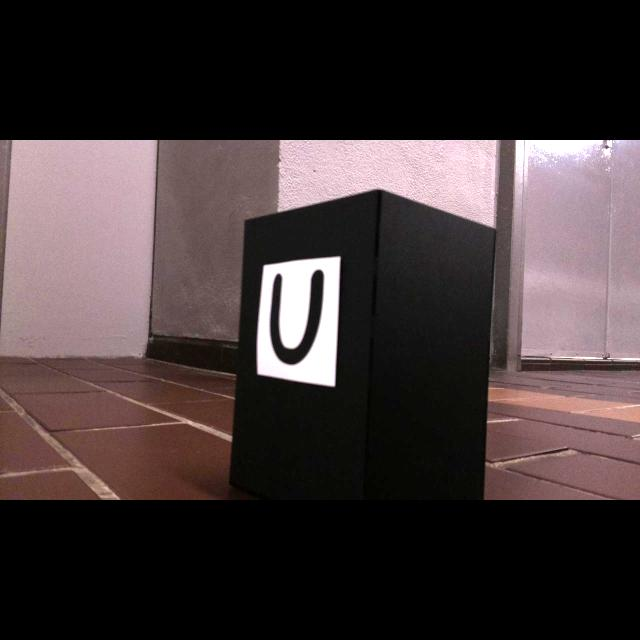U: (269, 269, 325, 365)
